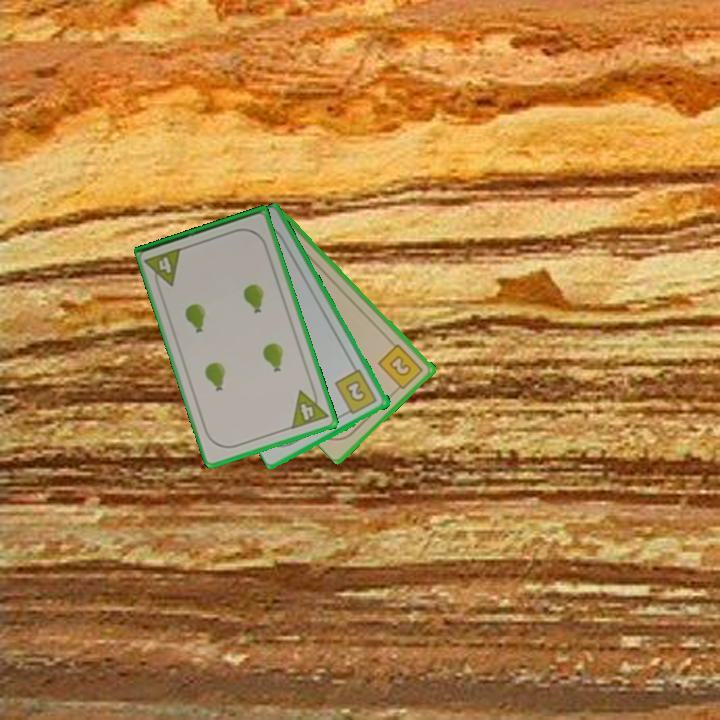2b: (375, 340, 426, 395), (332, 366, 380, 418)
4p: (288, 383, 331, 432), (142, 244, 185, 292)
